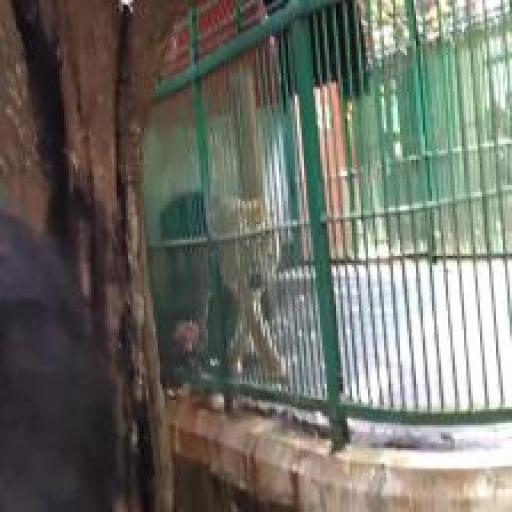Tiger: (160, 190, 303, 388)
